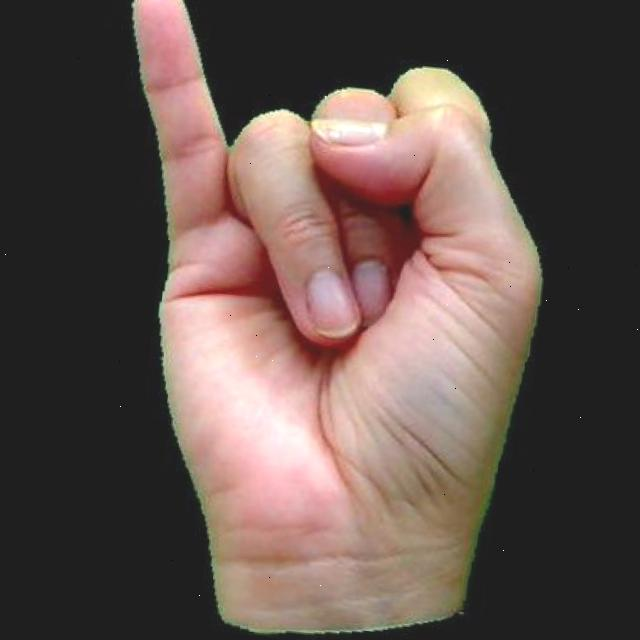i: (42, 0, 579, 640)
